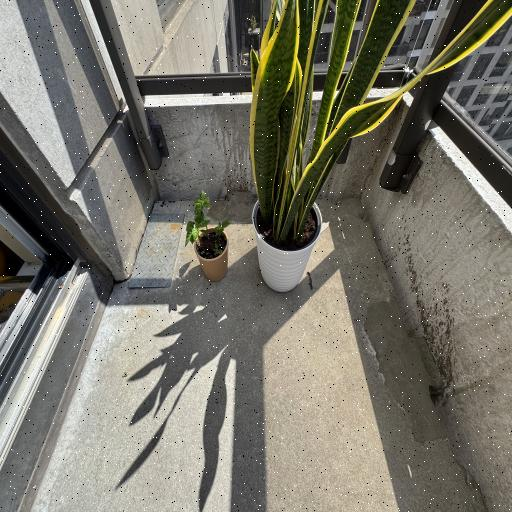Plant Pot: (251, 193, 323, 293), (195, 222, 230, 282)
